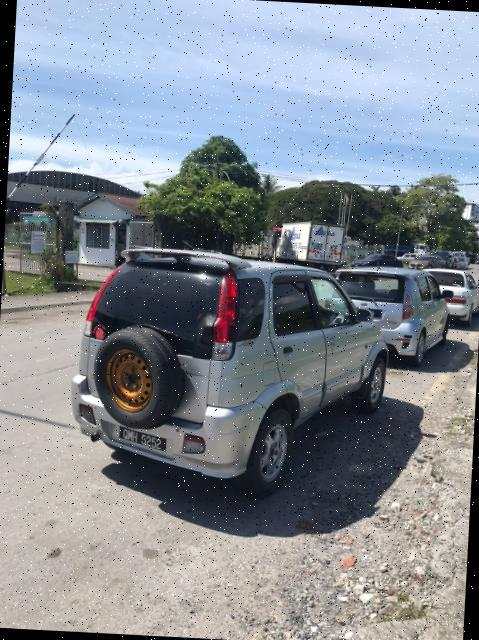License_Plate: (118, 427, 167, 453)
car: (67, 233, 398, 509)
